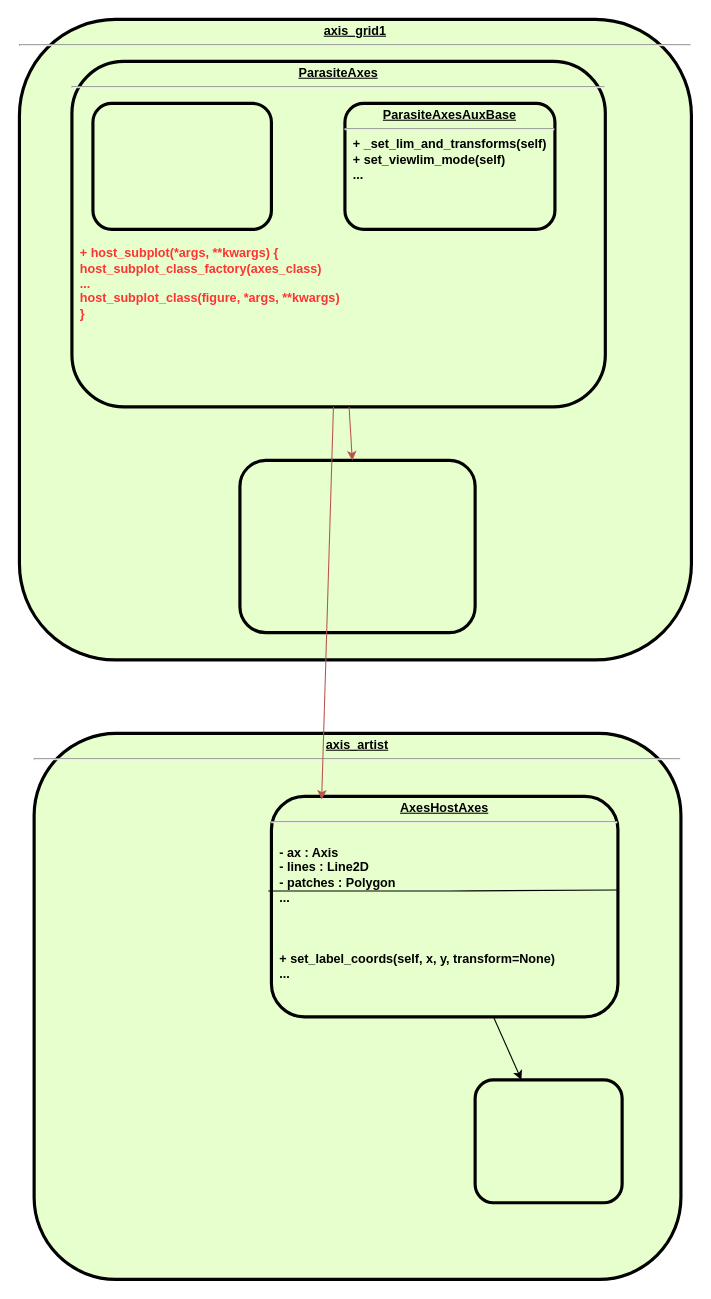
The diagram is 711 pixels wide and 1299 high, and some of its shapes have lost their labels. The centre of each missing label's shape, as x and y in pixels:
"AxesHostAxesSubplot - ax : Axes ..." goes at point (548, 1141).
"HostAxesBase - fig : Figure ..." goes at point (357, 546).
"ParasiteAxesBase + get_images_artists(self)" goes at point (181, 165).
